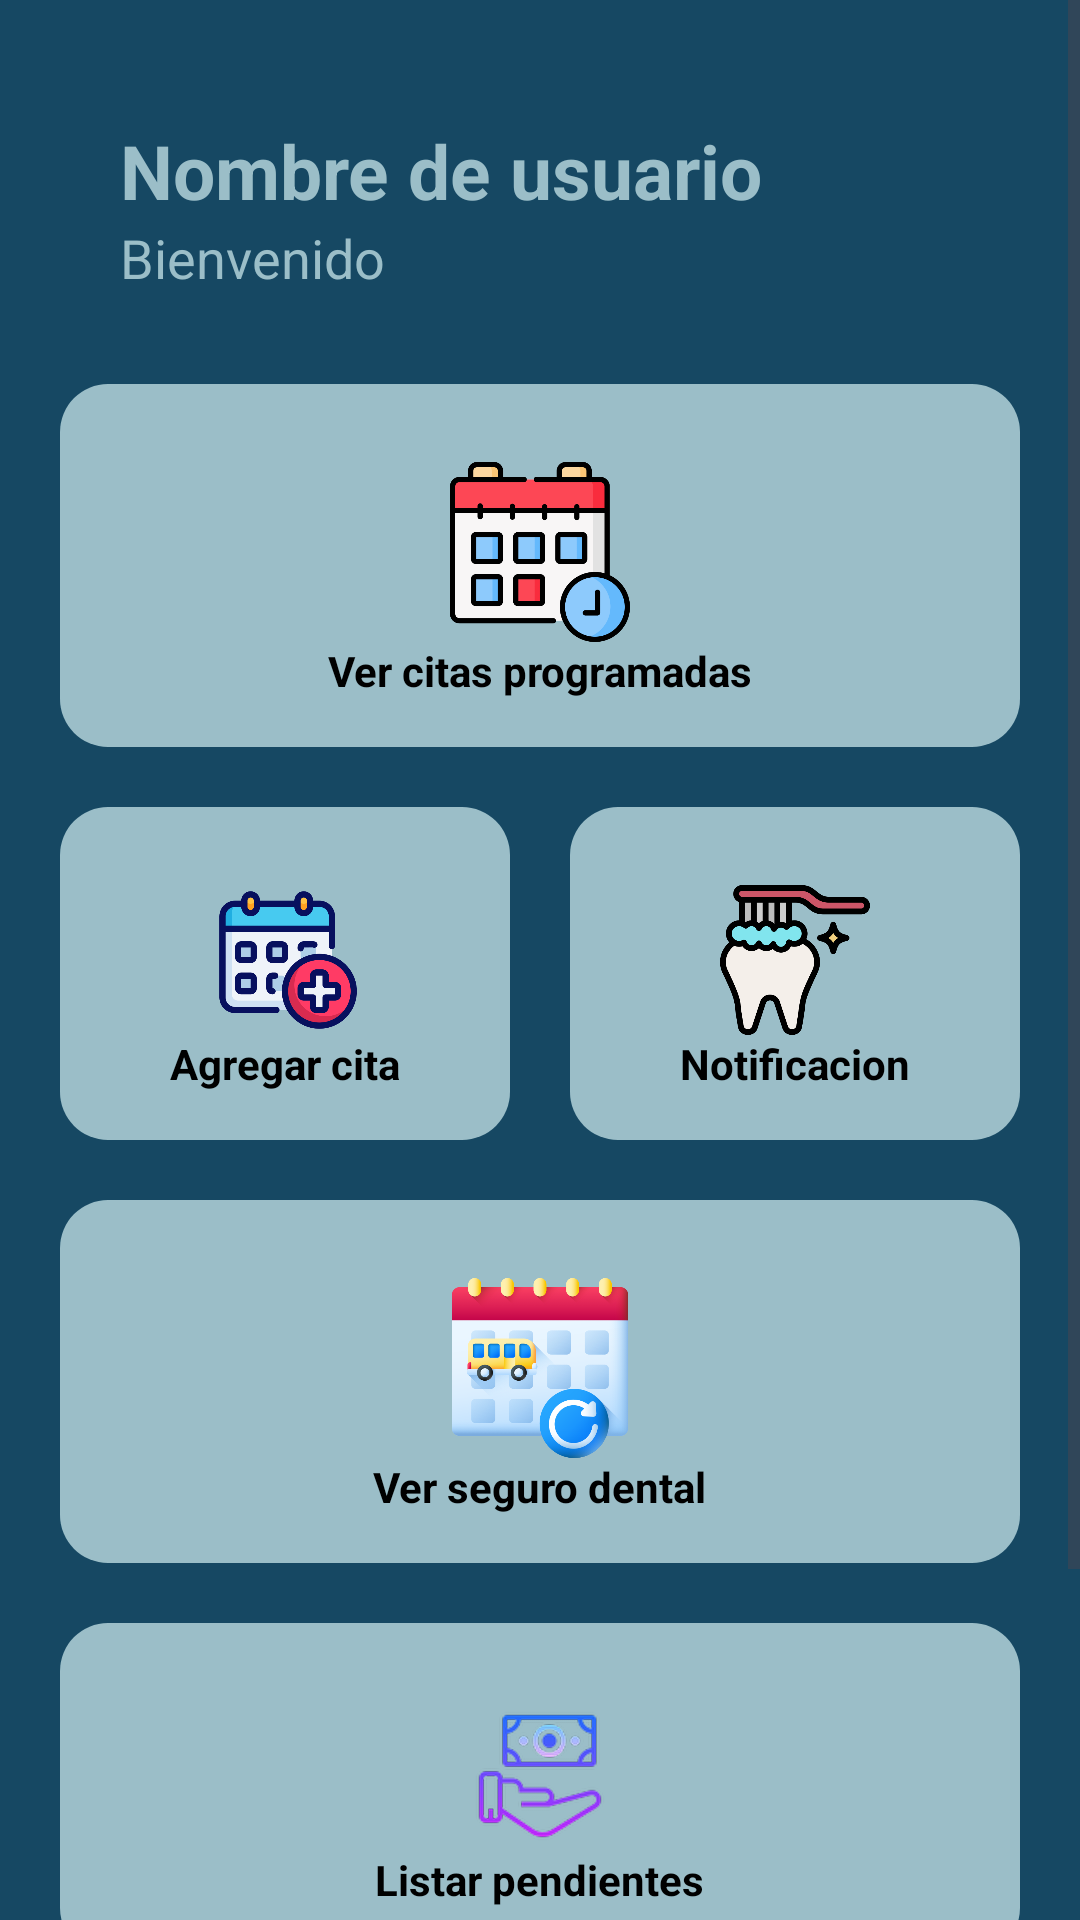

Where icons sit on this 1080×1920 app screen, as Rect(x1, y1, x2, y2):
pagar: Rect(479, 1715, 601, 1837)
reprogramar: Rect(452, 1278, 628, 1458)
